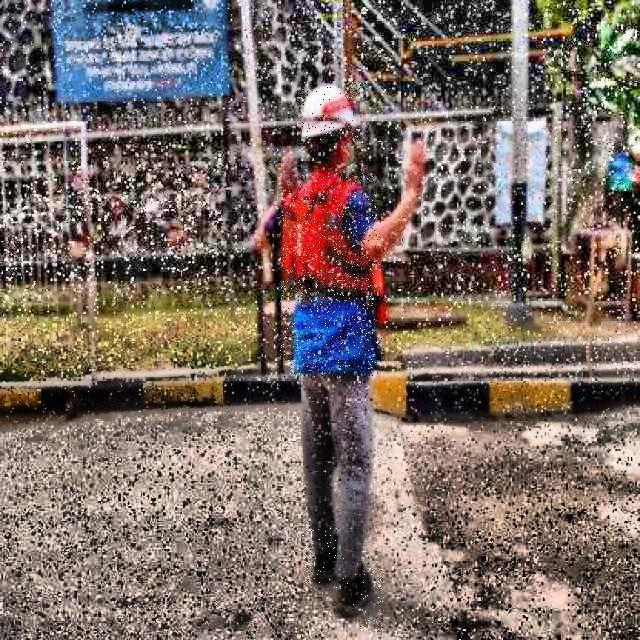safety_helmet: (302, 81, 362, 141)
safety_jacket: (280, 174, 380, 378)
